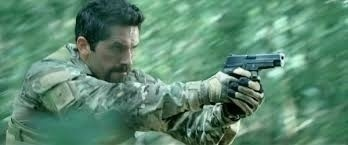pistol: (221, 50, 287, 80)
